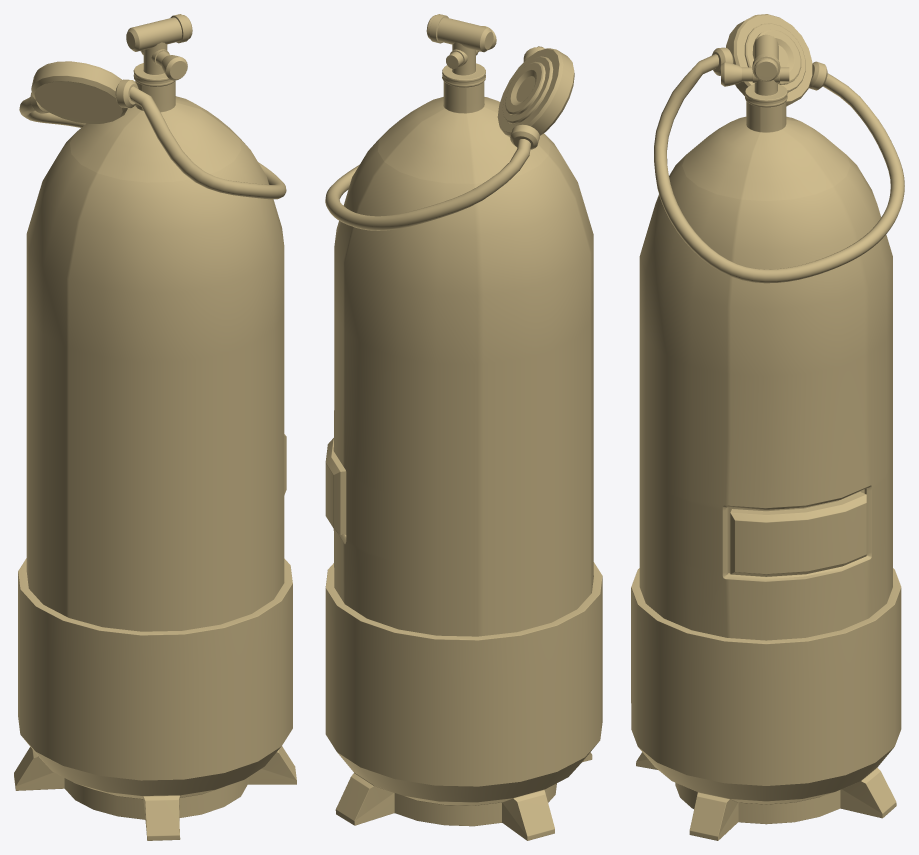
Rendered from oxygenTank_003.fbx.
3 views of the same model, side by side, from view 1: azimuth 30°, elevation 25°; view 2: azimuth 150°, elevation 25°; view 3: azimuth 270°, elevation 25° (orthographic). The views are drawn at different scales.
Visible parts, largest first — view 1: pSphere1, pSphere2, pCylinder3, defaultBrush1Main, pCylinder2, pCylinder1, pCylinder6; view 2: pSphere1, pSphere2, pCylinder3, defaultBrush1Main, pCylinder2, pCylinder1; view 3: pSphere1, pSphere2, defaultBrush1Main, pCylinder3, pCylinder2, pCylinder1, pCylinder6.
Boxes of the visible parts, x1,y1,x2,y2 form: pSphere1: [26, 81, 286, 631]; pSphere2: [14, 558, 296, 840]; pCylinder3: [31, 61, 127, 123]; defaultBrush1Main: [19, 86, 286, 199]; pCylinder2: [126, 14, 192, 51]; pCylinder1: [133, 42, 175, 86]; pCylinder6: [140, 49, 187, 80]; pSphere1: [325, 81, 593, 636]; pSphere2: [325, 562, 602, 840]; pCylinder3: [497, 48, 574, 137]; defaultBrush1Main: [325, 46, 544, 230]; pCylinder2: [426, 14, 493, 52]; pCylinder1: [442, 42, 485, 87]; pSphere1: [639, 101, 892, 640]; pSphere2: [631, 568, 901, 840]; defaultBrush1Main: [654, 54, 904, 283]; pCylinder3: [726, 14, 812, 106]; pCylinder2: [752, 34, 780, 81]; pCylinder1: [745, 80, 787, 107]; pCylinder6: [721, 62, 789, 86].
Bounding box in the file's own units: 1.9 × 5.77 × 1.93.
